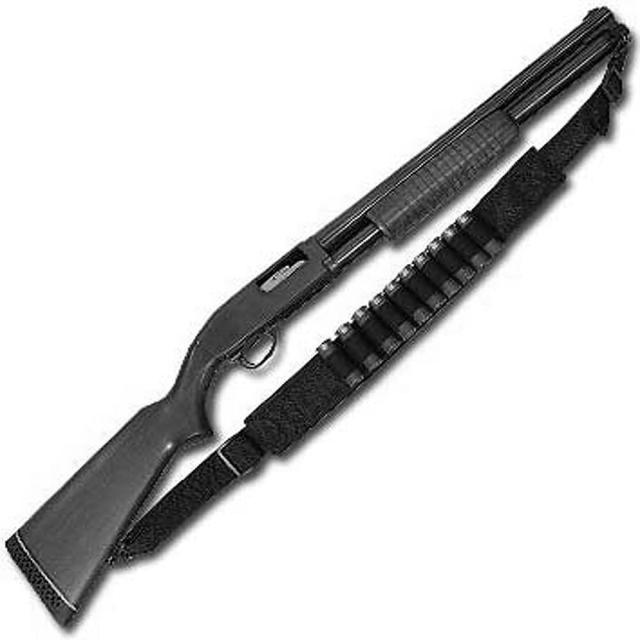Short-Gun: (22, 6, 600, 634)
